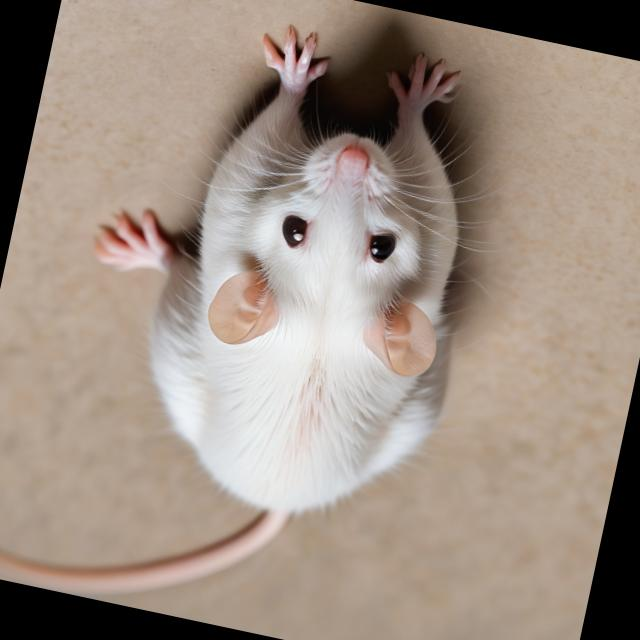rodent: (116, 60, 507, 554)
